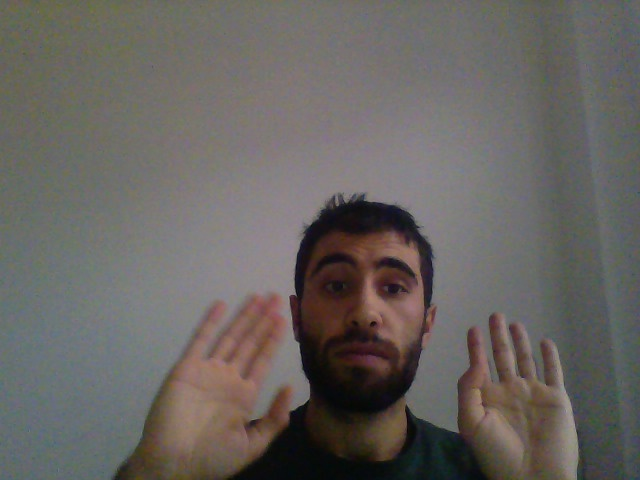No: (453, 309, 592, 480)
